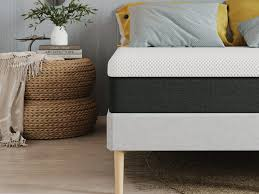bed-matress: (106, 43, 259, 113)
